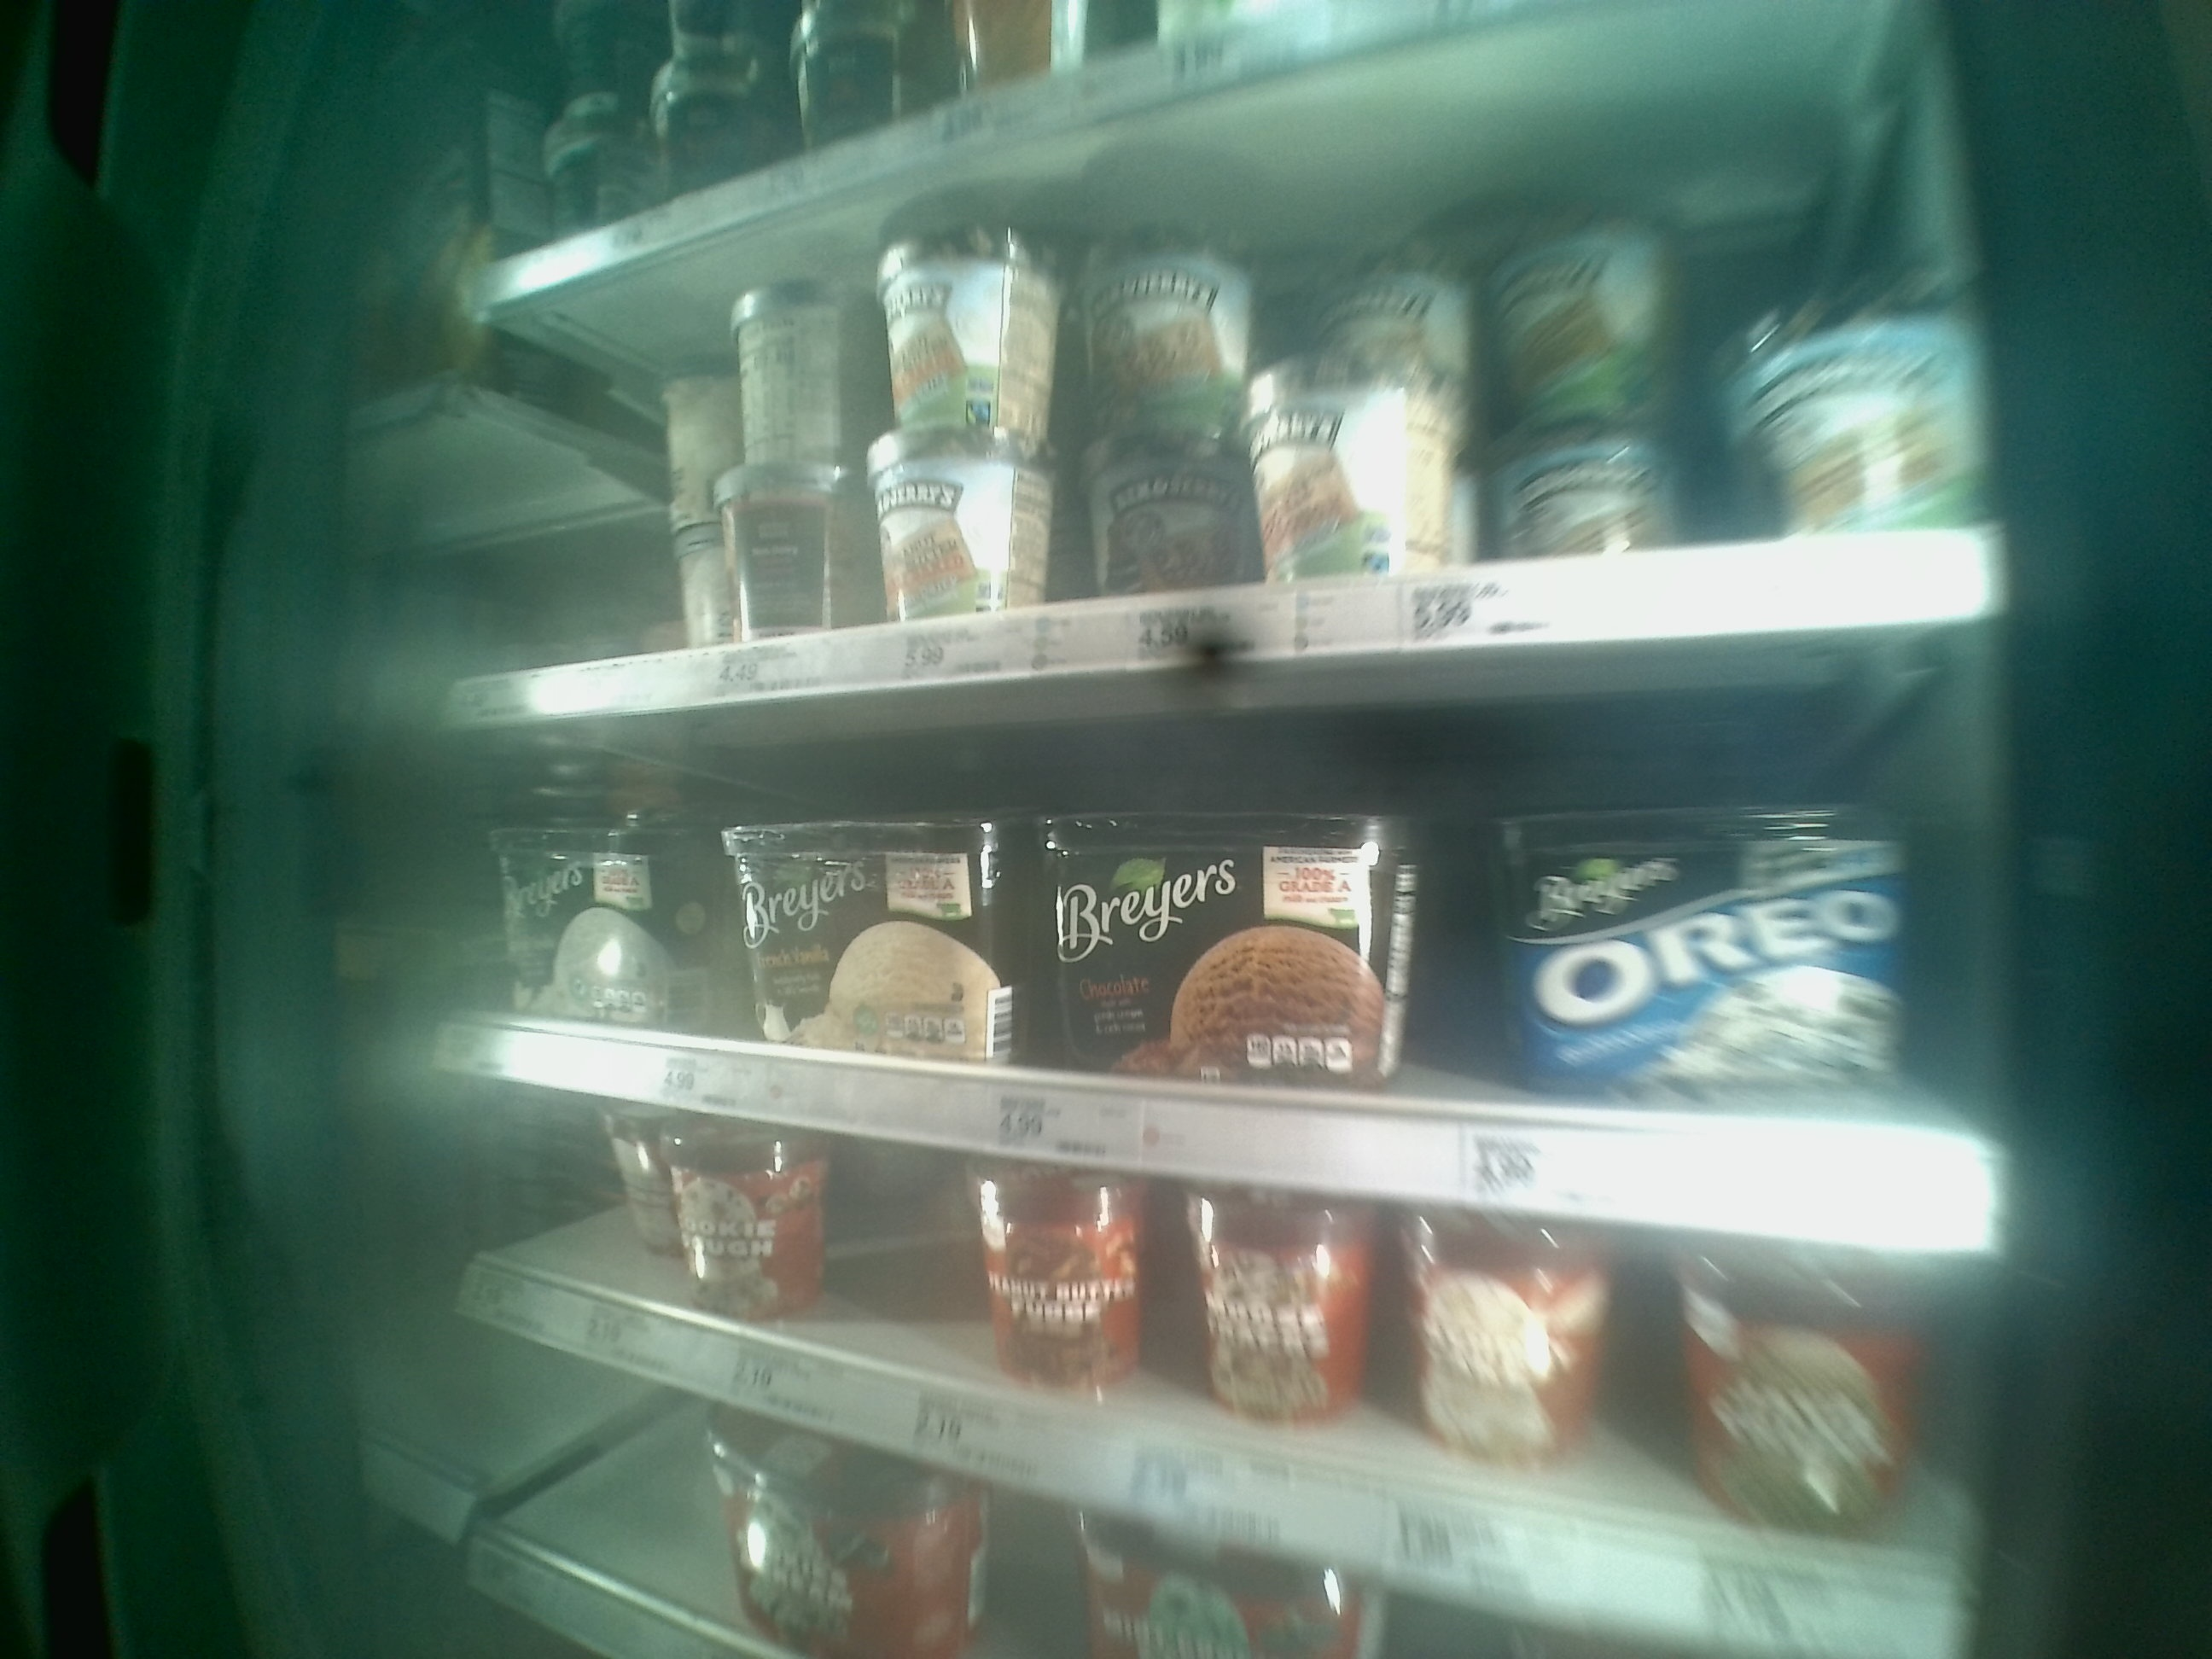shelf: (456, 633, 2010, 1263)
